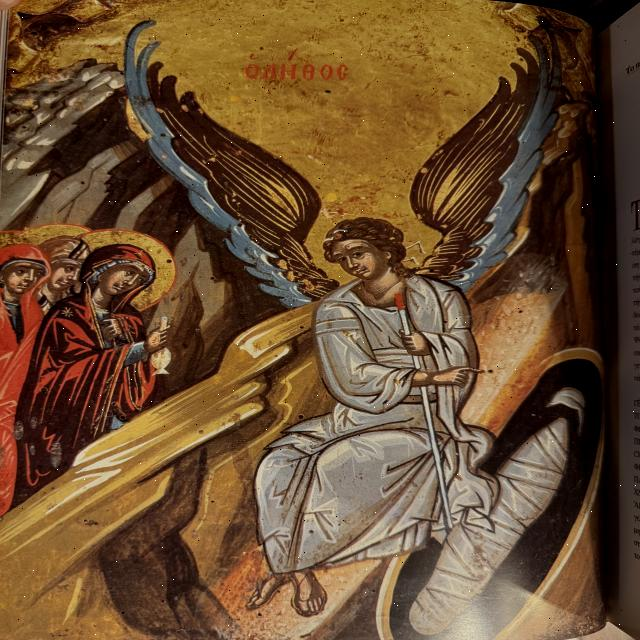angel: (110, 10, 576, 626)
aura: (65, 229, 181, 309)
saint: (14, 227, 186, 485), (1, 236, 53, 382), (40, 228, 98, 312)
scepter: (392, 292, 456, 529)
wing: (109, 15, 341, 300), (411, 14, 567, 285)
